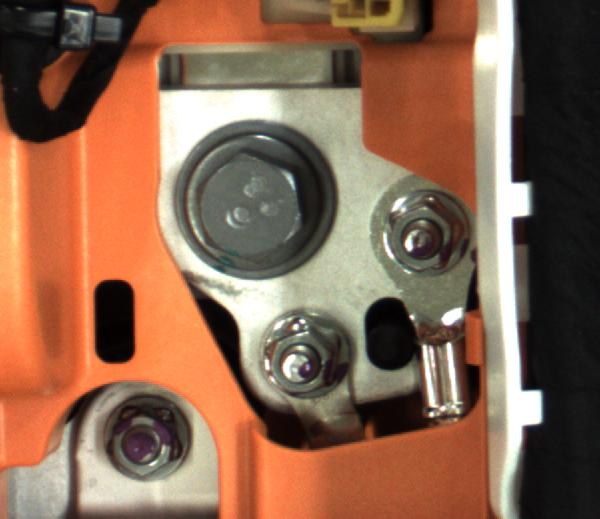nut_b: (168, 134, 330, 270)
screw_s: (376, 192, 470, 276), (108, 391, 196, 479), (259, 304, 346, 389)
